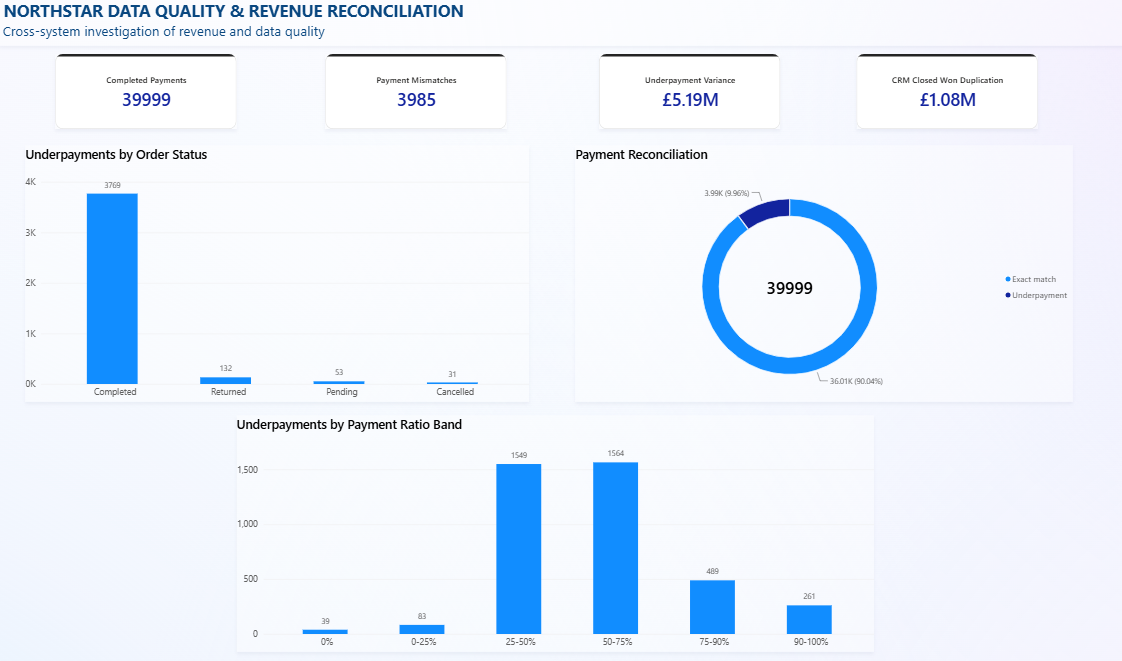

What the dashboard file says about the page in this screenshot:
{"tool":"powerbi","page":{"name":"Executive Summary","canvas":[1920,1080],"ordinal":0},"visuals":[{"type":"cardVisual","fields":{"Data":["Payment Reconciliation.Completed Payments"]},"box":[90,88.6,290,120],"z":0},{"type":"cardVisual","fields":{"Data":["Payment Reconciliation.Payment Mismatches"]},"box":[521.4,88.6,290,120],"z":1000},{"type":"cardVisual","fields":{"Data":["Payment Reconciliation.Underpayment Variance"]},"box":[960,88.6,290,120],"z":2000},{"type":"cardVisual","fields":{"Data":["CRM Quality Summary.CRM Closed Won Duplication"]},"box":[1372.9,88.6,290,120],"z":3000},{"type":"clusteredColumnChart","title":"Underpayments by Order Status","fields":{"Category":["Payment Reconciliation.order_status"],"Y":["Payment Reconciliation.Underpayment Count"]},"box":[42,234,806,410],"z":4000},{"type":"donutChart","title":"Payment Reconciliation","fields":{"Category":["Payment Reconciliation.reconciliation_status"],"Y":["CountNonNull(Payment Reconciliation.order_id)"]},"box":[922,234,796,410],"z":5000},{"type":"clusteredColumnChart","title":"Underpayments by Payment Ratio Band","fields":{"Category":["Payment Reconciliation.Payment Ratio Band"],"Y":["CountNonNull(Payment Reconciliation.order_id)"]},"box":[380,666,1020,378],"z":6000},{"type":"textbox","box":[0,0,1920,74],"z":7000}]}

Visuals, with their boxes on the page's 1920x1080 design canvas (x1, y1, x2, y2). These are canvas units, not pixel positions in the 1122x661 screenshot, which may show the page scaled, cropped or inside an application window:
cardVisual - Payment Reconciliation.Completed Payments: 90, 89, 380, 209
cardVisual - Payment Reconciliation.Payment Mismatches: 521, 89, 811, 209
cardVisual - Payment Reconciliation.Underpayment Variance: 960, 89, 1250, 209
cardVisual - CRM Quality Summary.CRM Closed Won Duplication: 1373, 89, 1663, 209
"Underpayments by Order Status" clusteredColumnChart: 42, 234, 848, 644
"Payment Reconciliation" donutChart: 922, 234, 1718, 644
"Underpayments by Payment Ratio Band" clusteredColumnChart: 380, 666, 1400, 1044
textbox: 0, 0, 1920, 74
